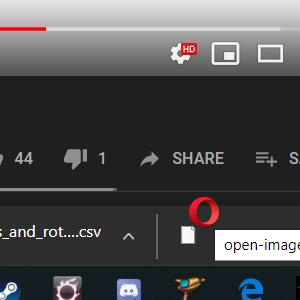opera: (188, 196, 220, 227)
